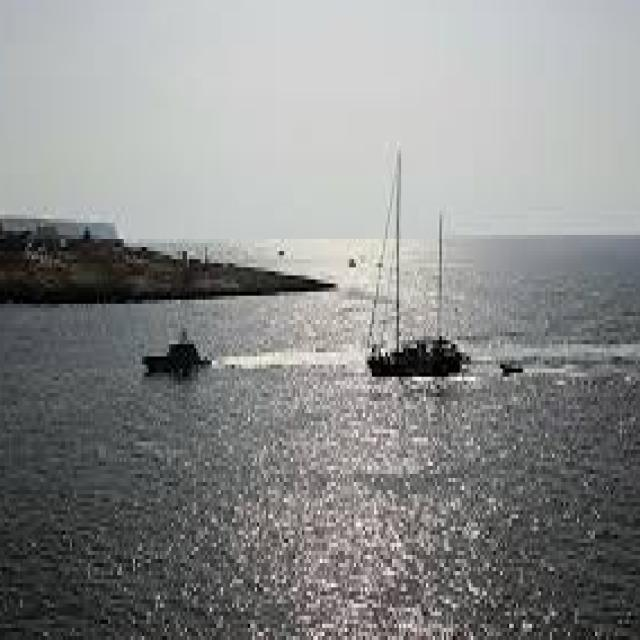fishing boat: (364, 144, 472, 378), (142, 314, 217, 386)
